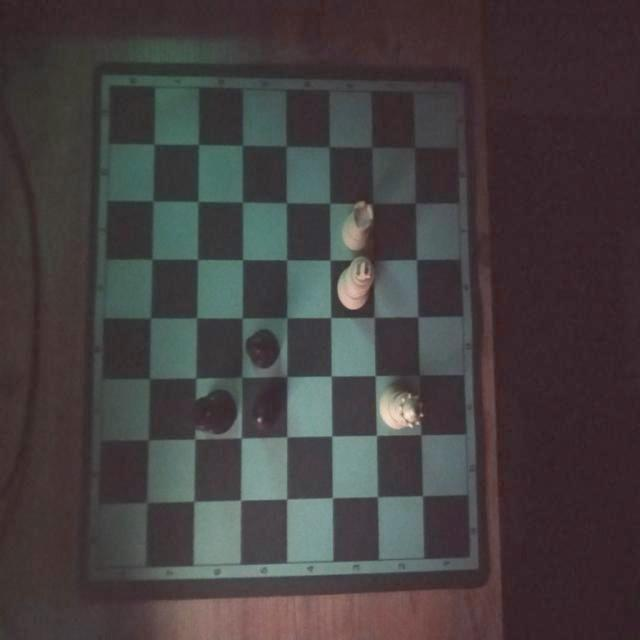chess-table-corners: (100, 72, 121, 98), (459, 546, 478, 570), (86, 558, 105, 581), (448, 81, 462, 102)
